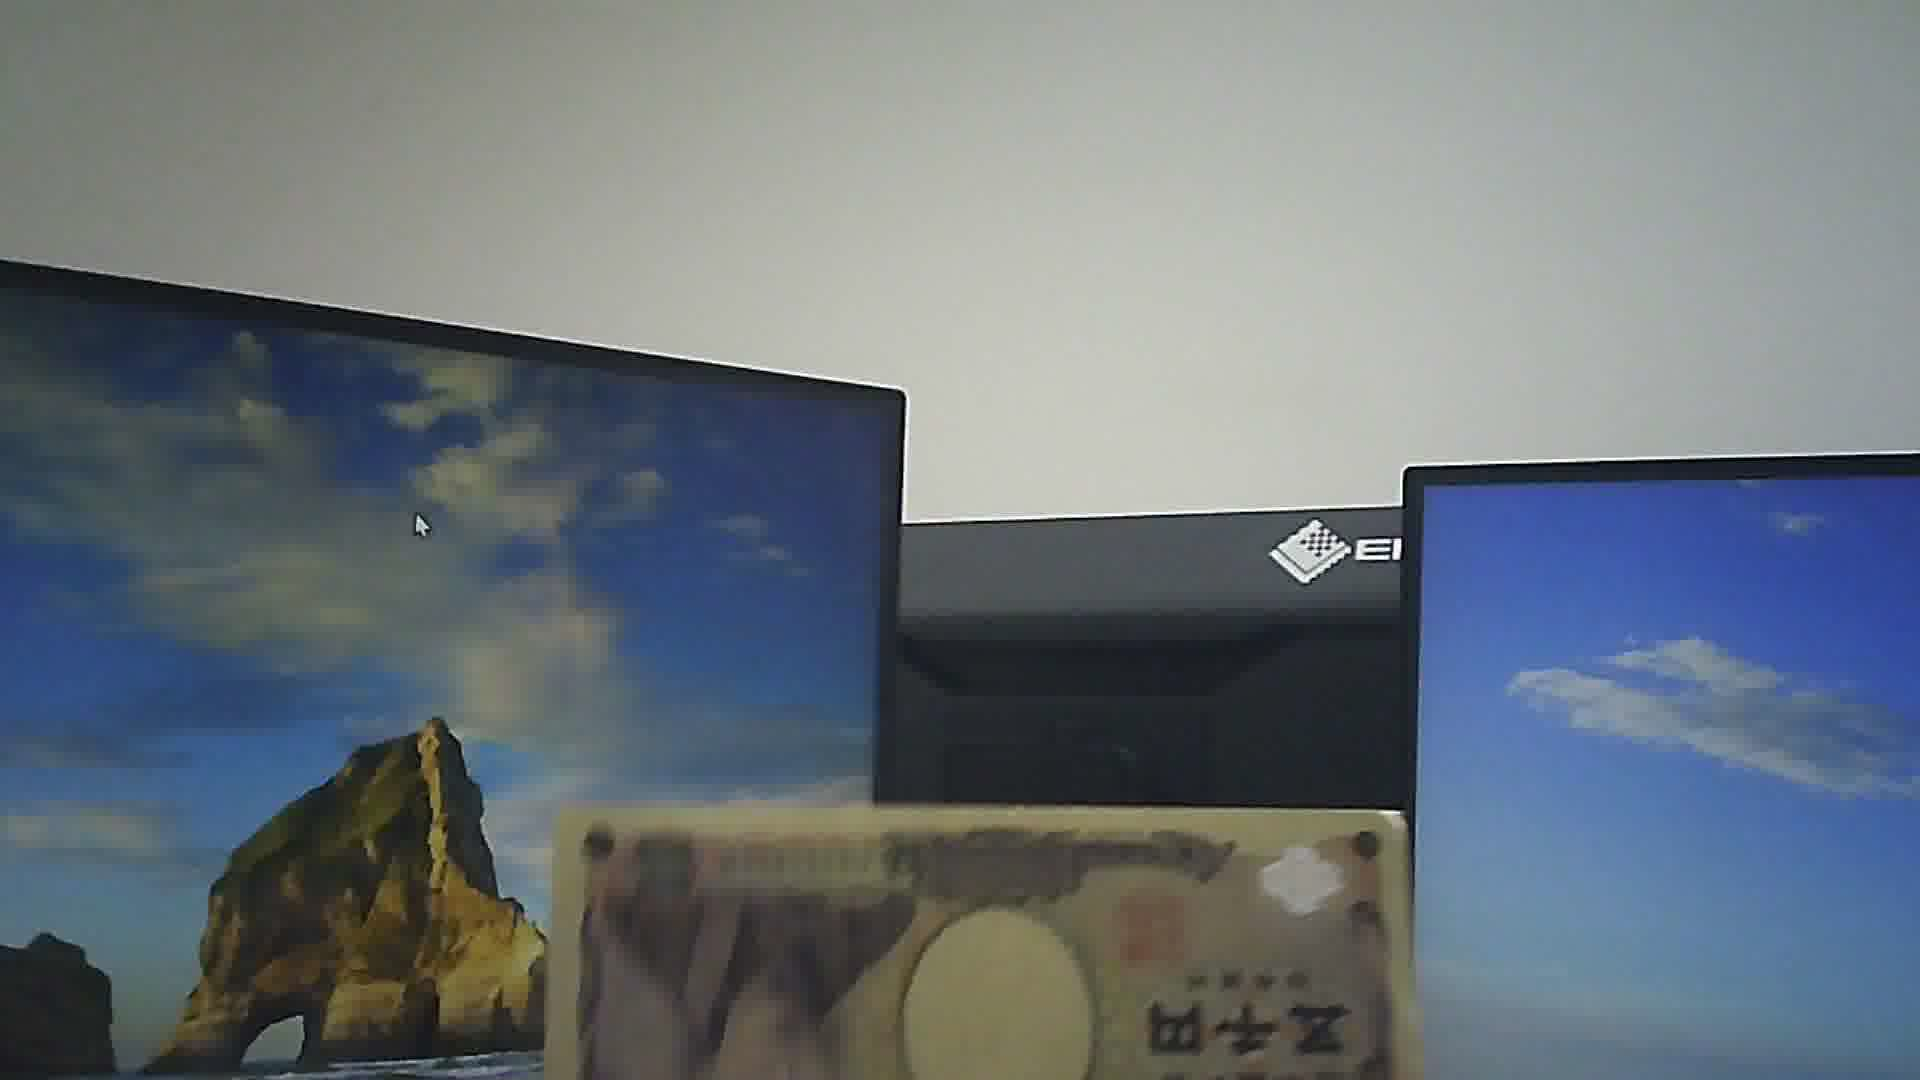5,000 Yen: (546, 787, 1419, 1077)
